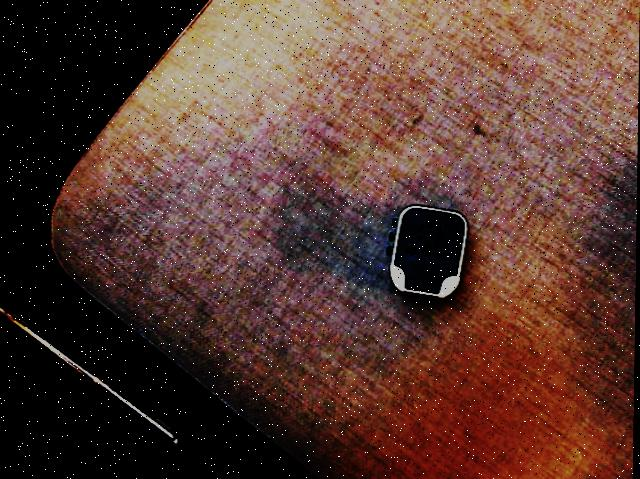adapter: (386, 204, 469, 300)
